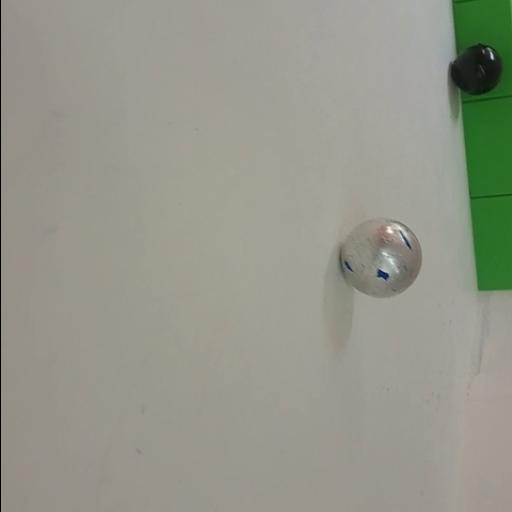alive: (340, 217, 422, 297)
dead: (449, 42, 503, 96)
